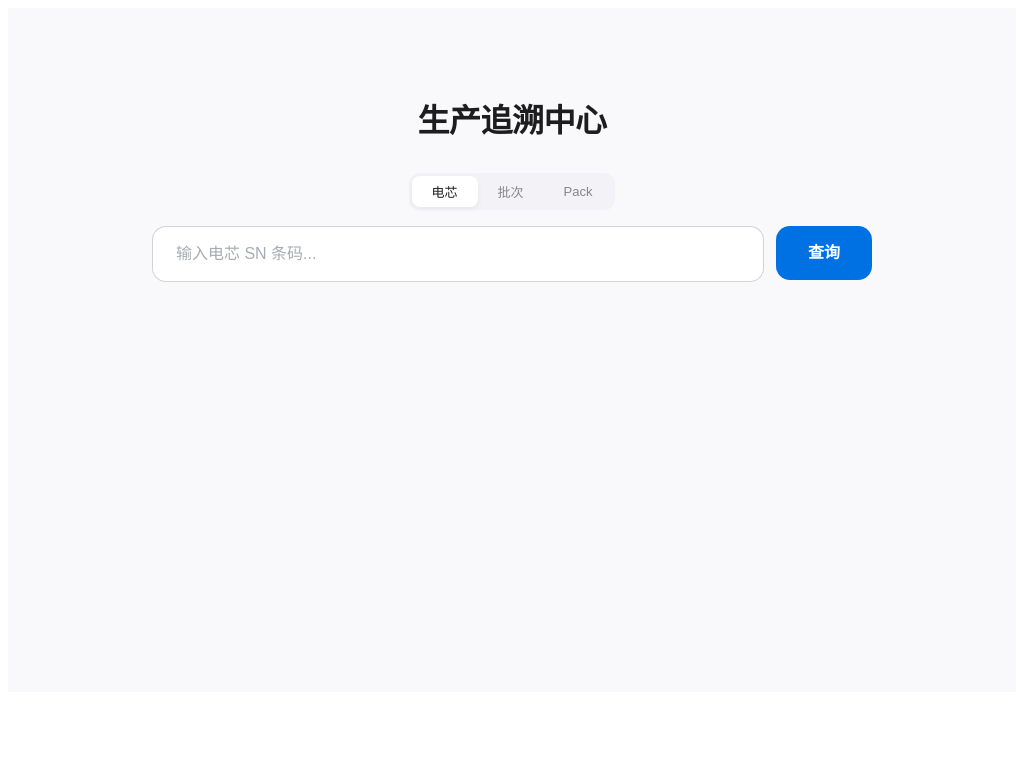
Test: CellTracePage › traces by barcode and shows result
This screenshot has width=1024, height=768.
In the field with placeholder "输入电芯 SN 条码...": (464, 254) [176,238,753,268], type "CELL001"
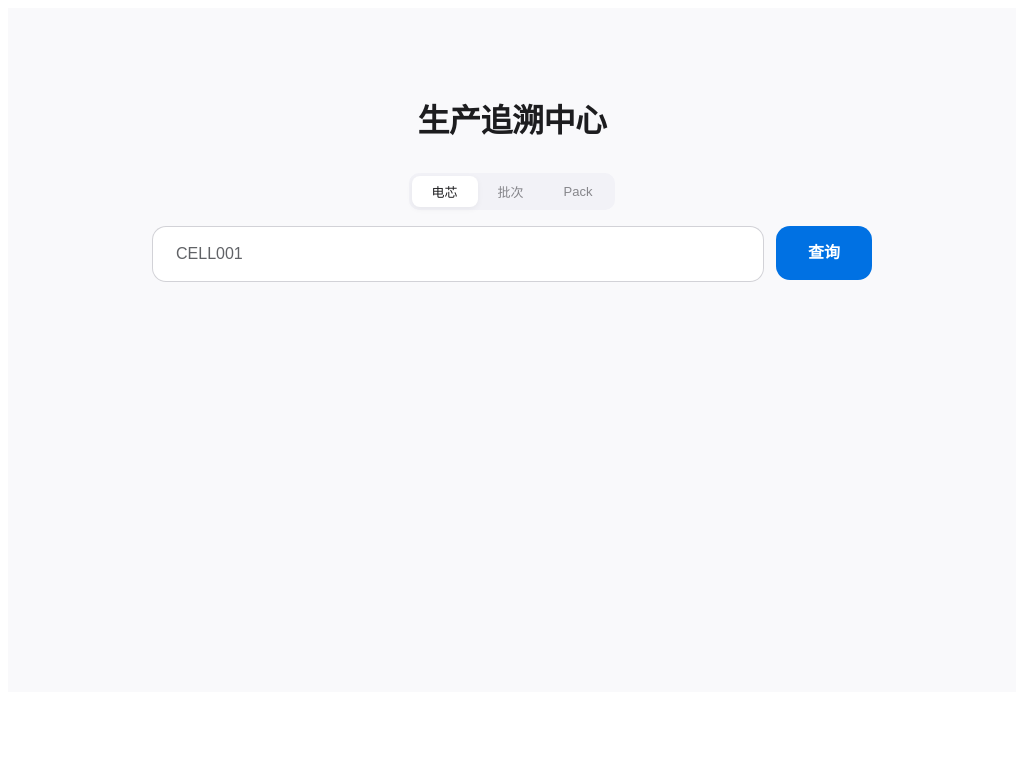
Click the button with class "apple-button": (824, 252) [776,226,872,280]
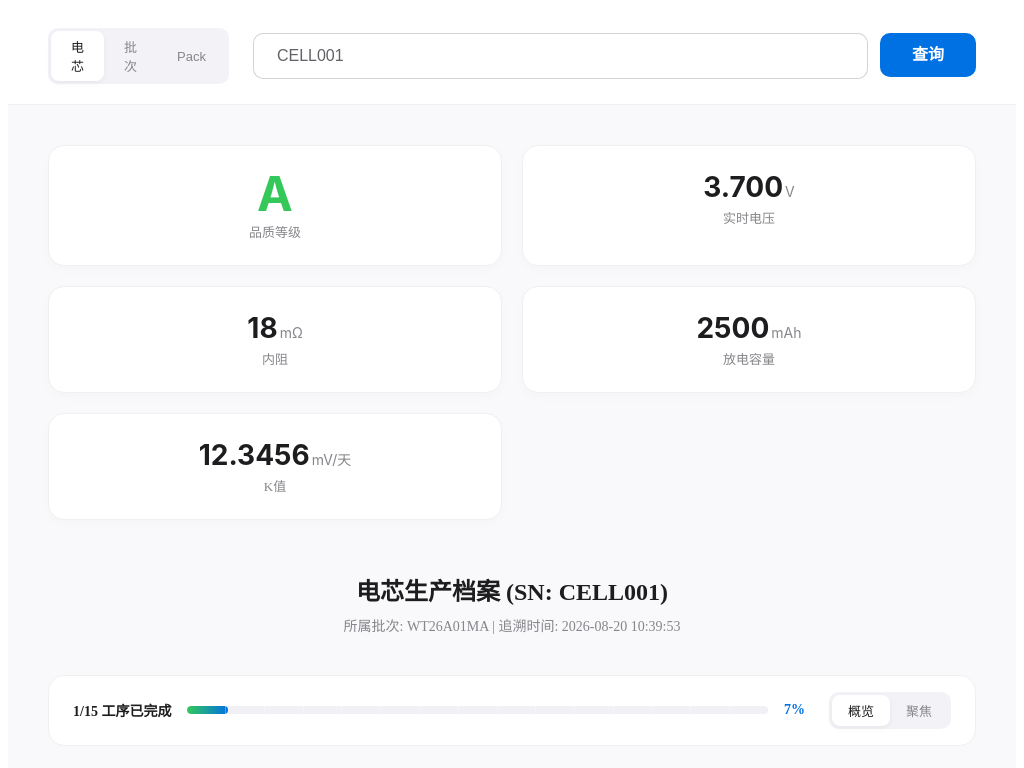
Now the text "SN: CELL001" is shown, box [356,579,668,605]
Now the text "所属批次: WT26A01MA" is shown, box [344,619,680,634]
Now the text "mV/天" is shown, box [312,451,351,468]
